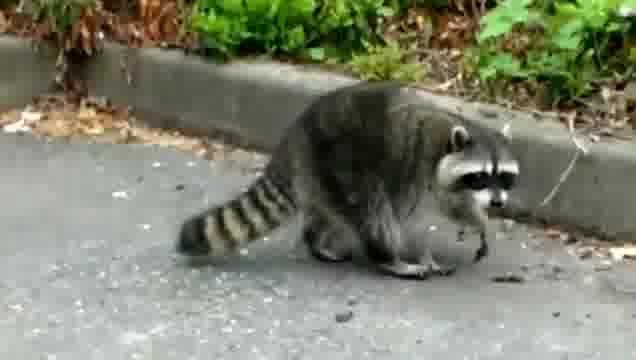raccoon: (175, 81, 522, 283)
